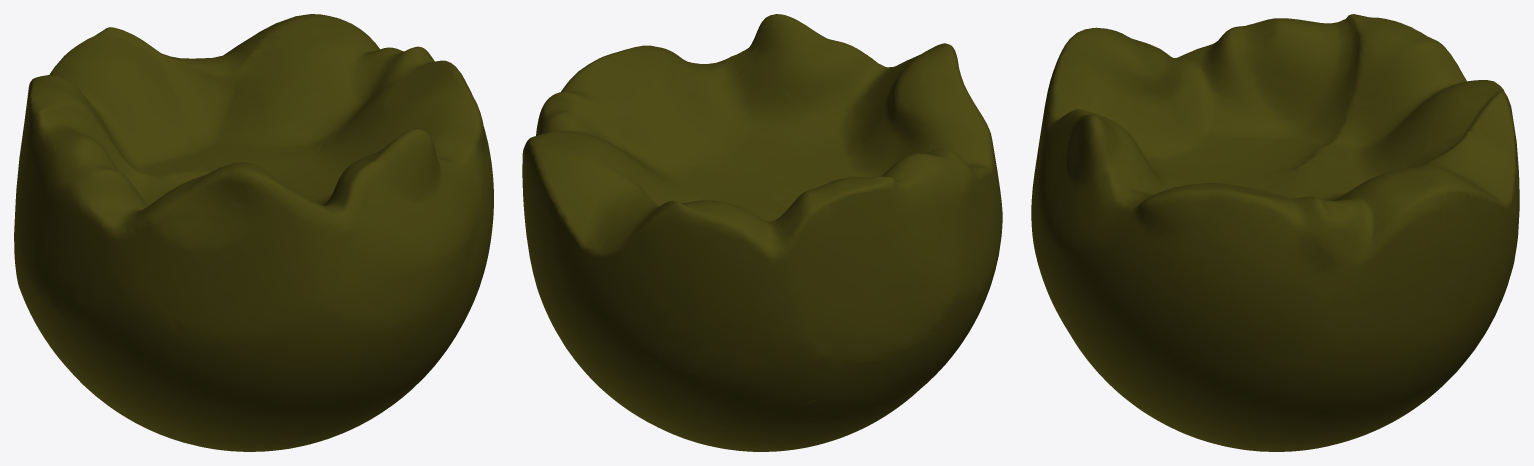
The model's file is v_stage.gltf.
The picture shows the model from 3 angles, left to right: view 1: azimuth 30°, elevation 25°; view 2: azimuth 150°, elevation 25°; view 3: azimuth 270°, elevation 25°; orthographic projection. The views are drawn at different scales.
Visible parts, largest first — view 1: Basin; view 2: Basin; view 3: Basin.
Part boxes in pixels (x1=…): Basin: x1=14, y1=14, x2=493, y2=451; Basin: x1=522, y1=14, x2=1002, y2=451; Basin: x1=1031, y1=14, x2=1519, y2=451.
Bounding box in the file's own units: 29.86 × 23.54 × 29.64.
